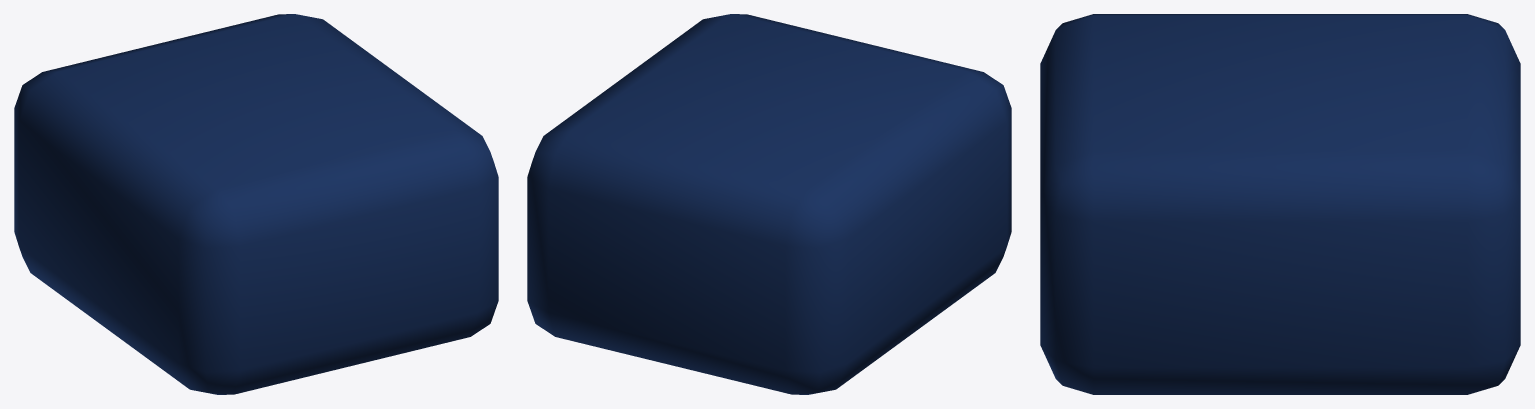
File: GEO_SEDAN_Mirror_Housing_L.glb
The picture shows the model from 3 angles, left to right: view 1: azimuth 30°, elevation 25°; view 2: azimuth 150°, elevation 25°; view 3: azimuth 270°, elevation 25°; orthographic projection. The views are drawn at different scales.
Parts seen in each view (by area): view 1: GEO_SEDAN_Mirror_Housing_L; view 2: GEO_SEDAN_Mirror_Housing_L; view 3: GEO_SEDAN_Mirror_Housing_L.
Part boxes in pixels (x1,y1,x2,y2): GEO_SEDAN_Mirror_Housing_L: (14,14,498,394); GEO_SEDAN_Mirror_Housing_L: (527,14,1011,394); GEO_SEDAN_Mirror_Housing_L: (1040,14,1520,394).
Size of the model in its own units: 0.16 by 0.1 by 0.18.
